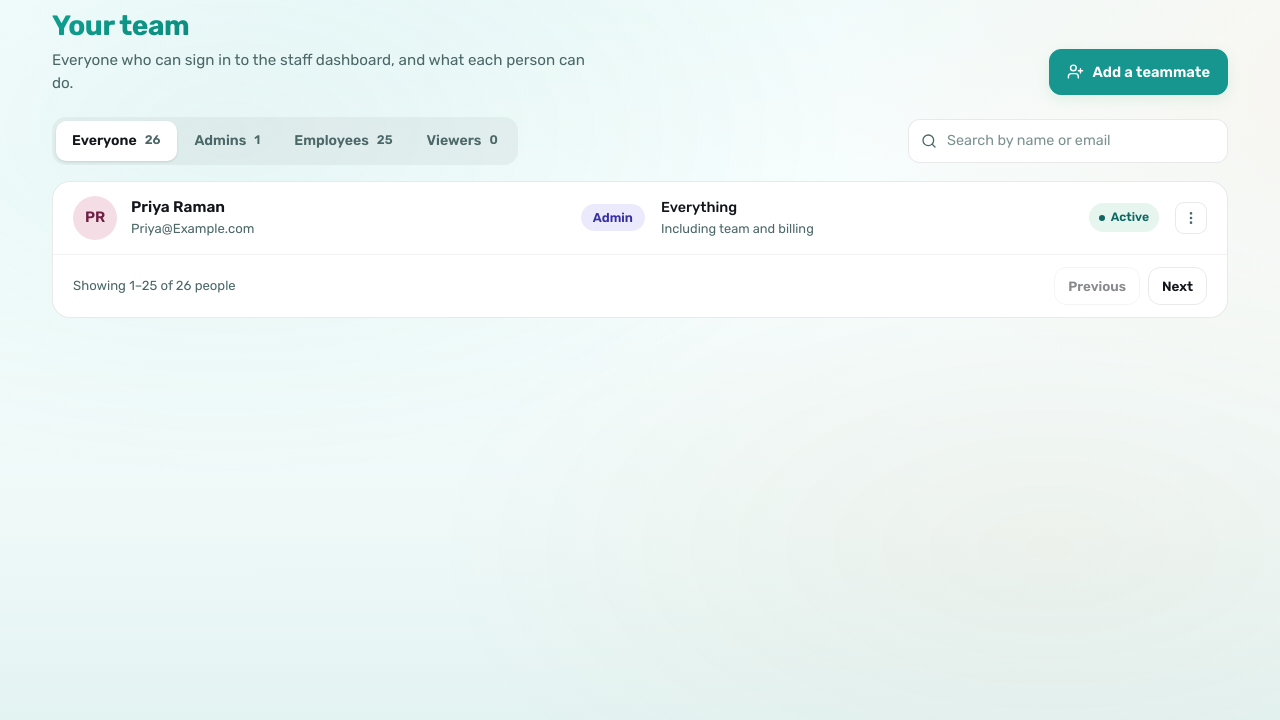
Test: EmployeesPage › loads page 1 again after removing the only person on page 2
expect the button "PR Priya Raman Priya@Example.com" is shown: met, box [73,196,565,240]
Step 1. Click the button "Next" → click(1178, 286), box [1148,267,1207,305]
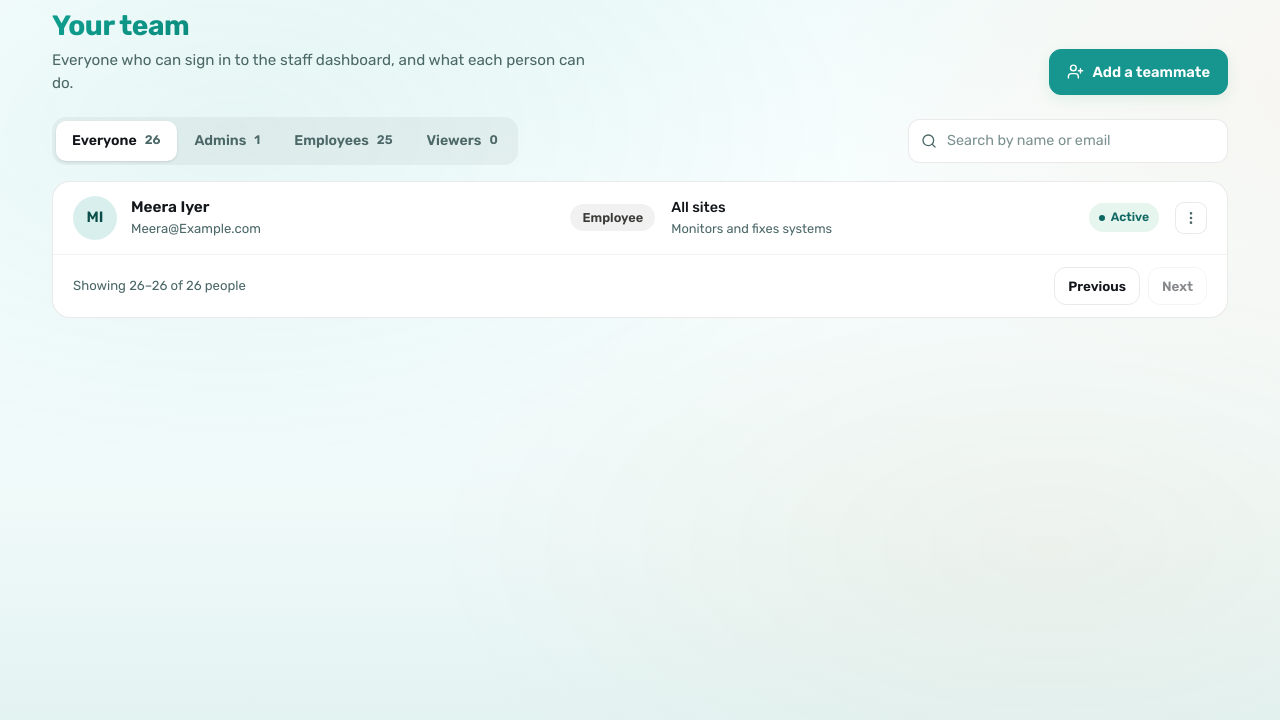
expect the button "MI Meera Iyer Meera@Example.com" is shown: met, box [73,196,554,240]
Step 2. Click the button named "More actions for Meera Iyer" → click(1191, 218), box [1175,202,1207,234]
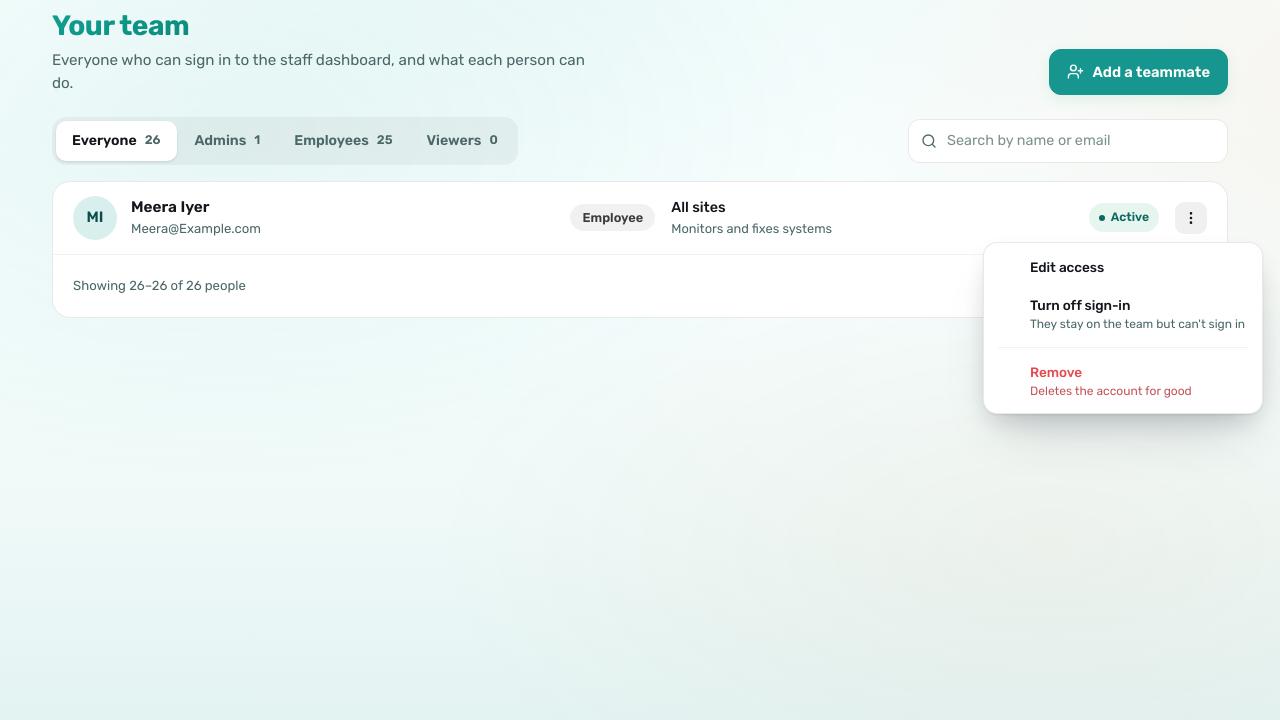
Step 3. Click the menu item "Remove Deletes the account for good" → click(1056, 372), box [989,353,1257,408]
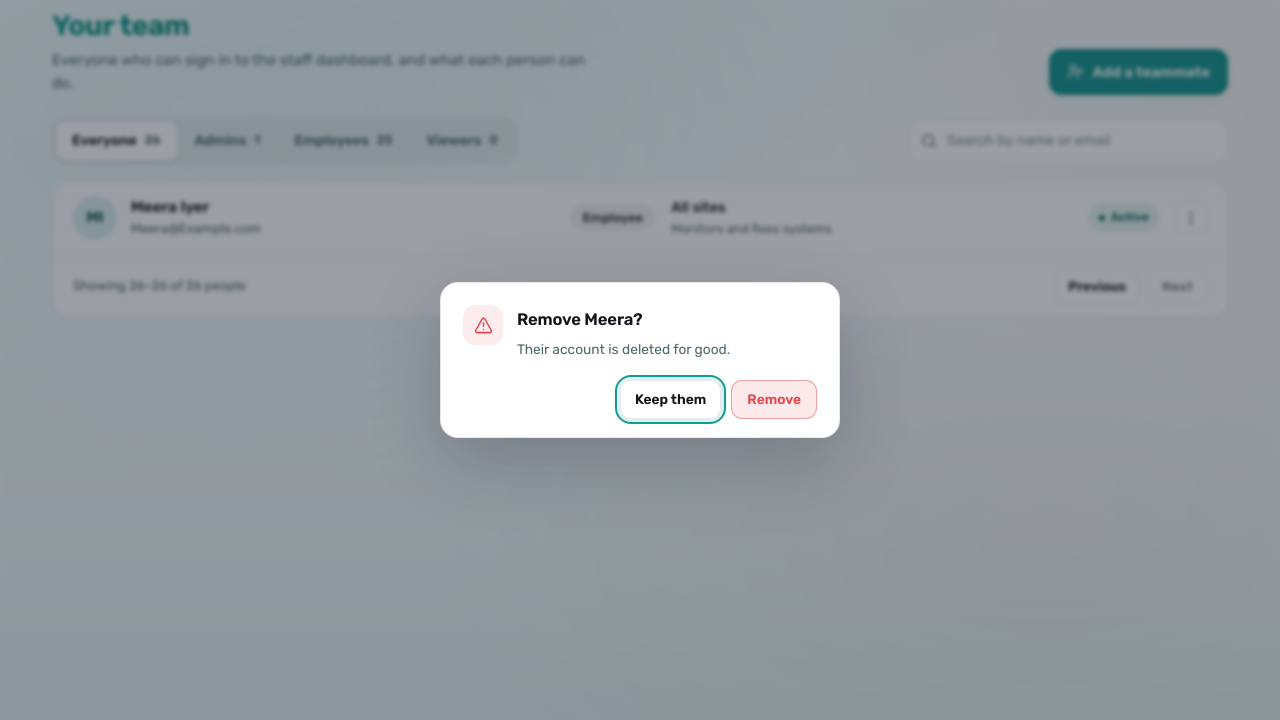
Step 4. Click the button "Remove" → click(774, 399), box [731,380,817,419]
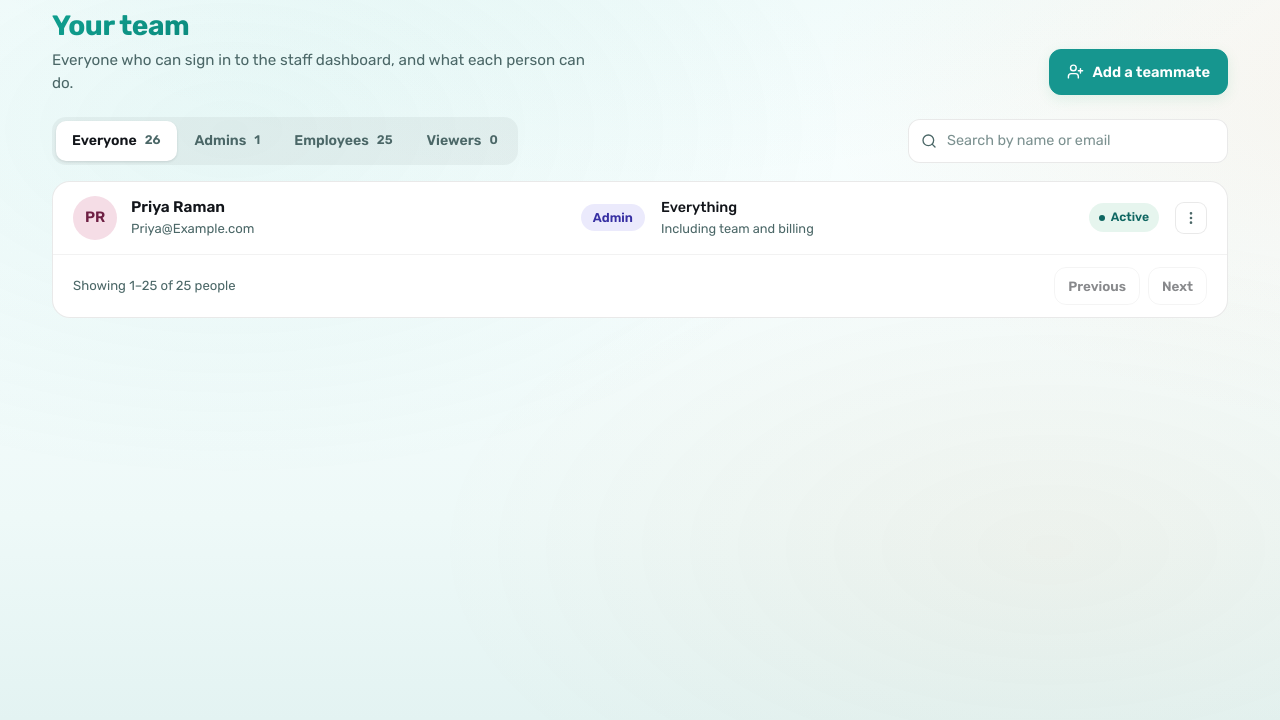
expect the button "PR Priya Raman Priya@Example.com" is shown: met, box [73,196,565,240]
expect the text "Showing 1–25 of 25 people" is shown: met, box [73,276,236,296]
